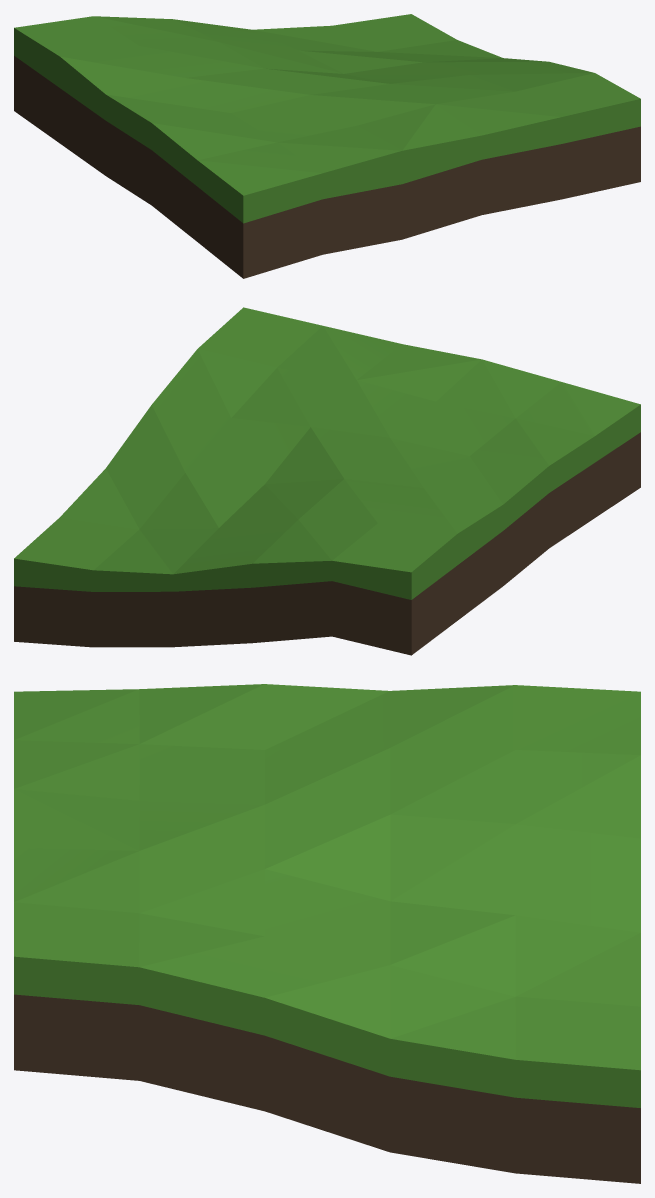
The model's file is terrains_terrain-world-valley2.fbx.
The picture shows the model from 3 angles, top to bottom: view 1: azimuth 30°, elevation 25°; view 2: azimuth 150°, elevation 25°; view 3: azimuth 270°, elevation 25°; orthographic projection. The views are drawn at different scales.
Visible parts, largest first — view 1: terrains_terrain_world_valley2; view 2: terrains_terrain_world_valley2; view 3: terrains_terrain_world_valley2.
Part boxes in pixels (<box>): terrains_terrain_world_valley2: <box>14,14,640,278</box>; terrains_terrain_world_valley2: <box>14,307,640,655</box>; terrains_terrain_world_valley2: <box>14,684,640,1183</box>.
Size of the model in its own units: 200 by 83 by 200.
